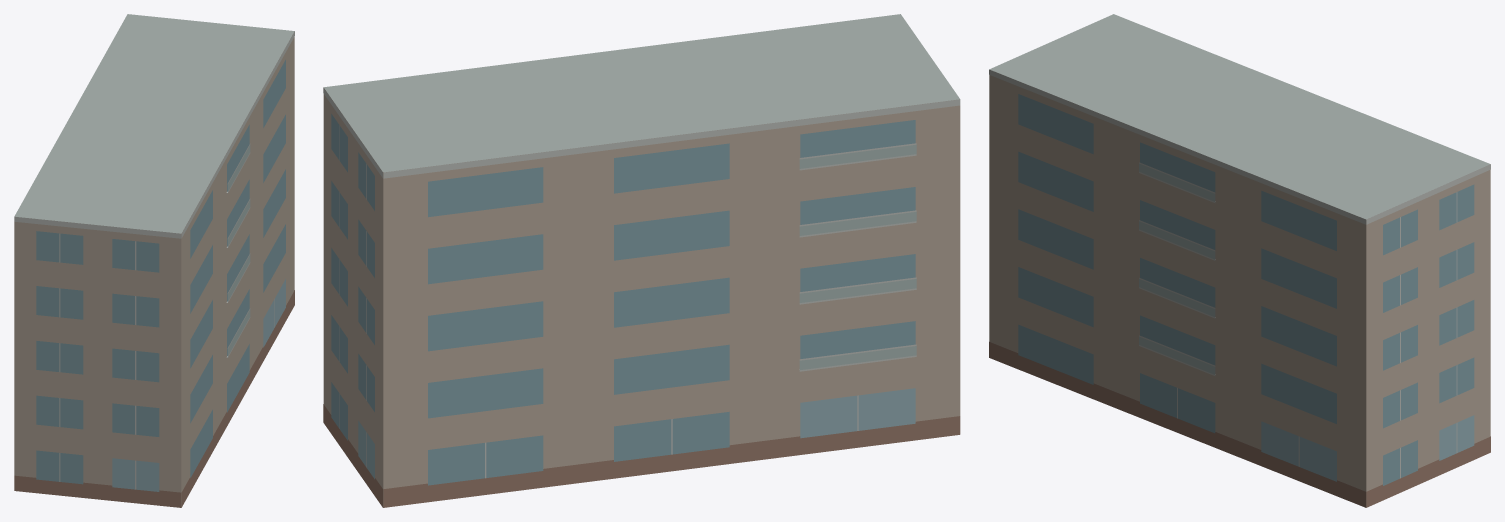
Rendered from survey-upis-32557709.glb.
3 renders of one model, left to right at view 1: azimuth 30°, elevation 25°; view 2: azimuth 150°, elevation 25°; view 3: azimuth 270°, elevation 25°, orthographic. The views are drawn at different scales.
Parts seen in each view (by area): view 1: survey-upis-32557709.tmp; view 2: survey-upis-32557709.tmp; view 3: survey-upis-32557709.tmp.
Part boxes in pixels (x1=…): survey-upis-32557709.tmp: x1=14, y1=14, x2=294, y2=507; survey-upis-32557709.tmp: x1=323, y1=14, x2=960, y2=507; survey-upis-32557709.tmp: x1=989, y1=14, x2=1490, y2=507.
Size of the model in its own units: 20.19 by 13.2 by 20.82.
